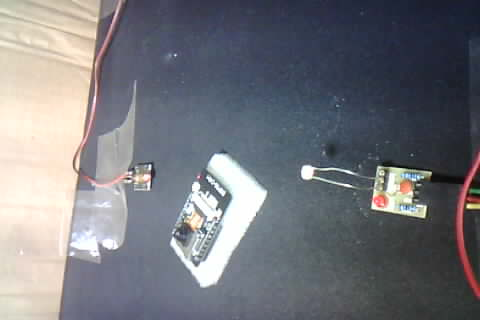esp32: (160, 149, 254, 277)
